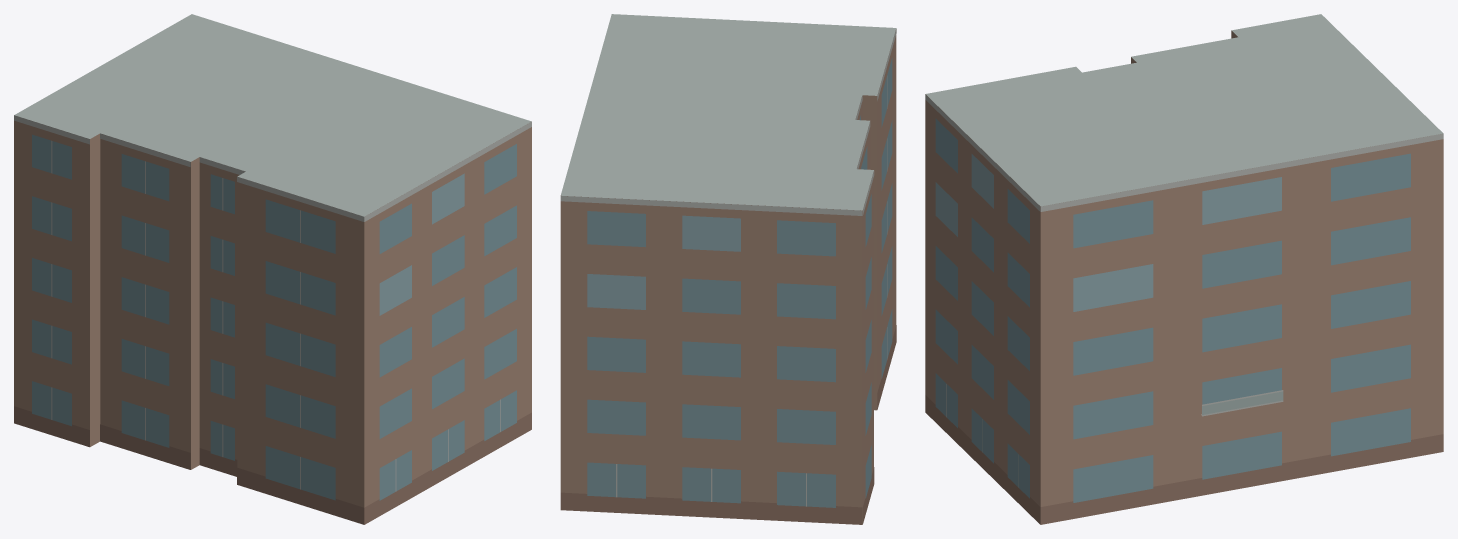
The model's file is survey-upis-33017227.glb.
3 renders of one model, left to right at view 1: azimuth 30°, elevation 25°; view 2: azimuth 150°, elevation 25°; view 3: azimuth 270°, elevation 25°, orthographic. The views are drawn at different scales.
Parts seen in each view (by area): view 1: survey-upis-33017227.tmp; view 2: survey-upis-33017227.tmp; view 3: survey-upis-33017227.tmp.
Boxes of the visible parts, x1,y1,x2,y2 form: survey-upis-33017227.tmp: (14, 14, 531, 524); survey-upis-33017227.tmp: (560, 14, 896, 524); survey-upis-33017227.tmp: (925, 14, 1443, 524).
Bounding box in the file's own units: 17.97 × 13.85 × 20.44.
